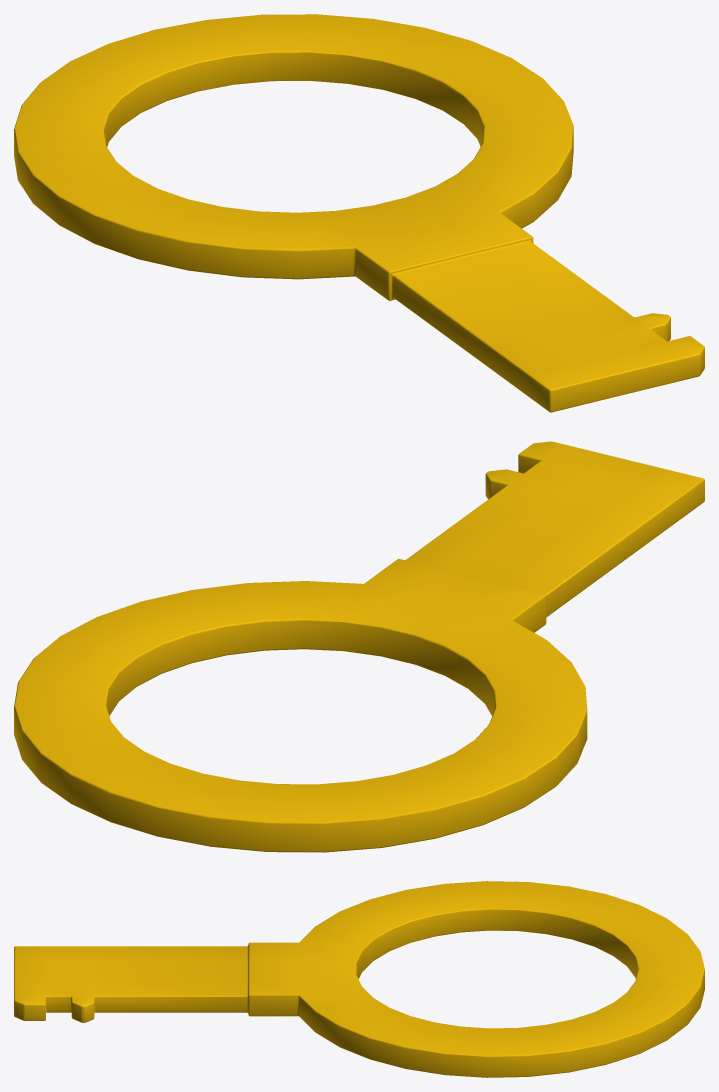
Rendered from anahtar.fbx.
The picture shows the model from 3 angles, top to bottom: view 1: azimuth 30°, elevation 25°; view 2: azimuth 150°, elevation 25°; view 3: azimuth 270°, elevation 25°; orthographic projection. The views are drawn at different scales.
Visible parts, largest first — view 1: Circle.001; view 2: Circle.001; view 3: Circle.001.
Part boxes in pixels (<box>): Circle.001: <box>14,14,704,412</box>; Circle.001: <box>14,441,704,852</box>; Circle.001: <box>14,881,704,1077</box>.
Bounding box in the file's own units: 380 × 22.36 × 633.
